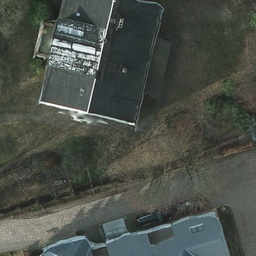car: (132, 207, 165, 226)
